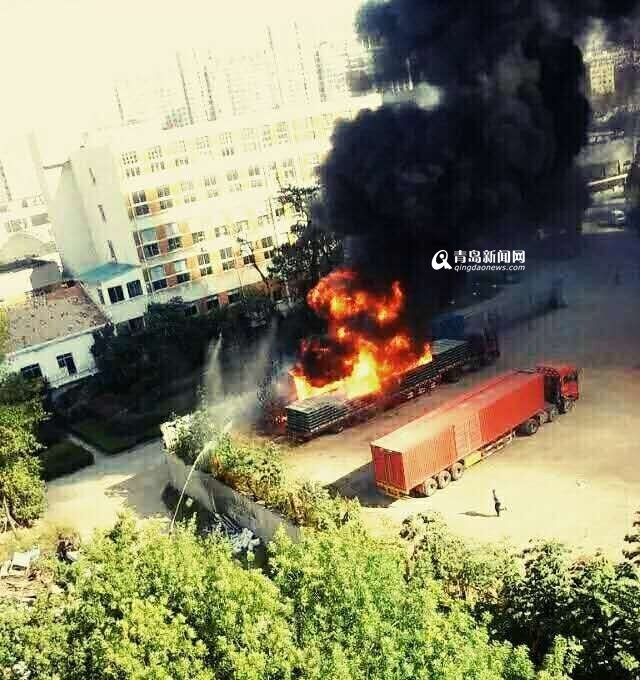fire: (293, 272, 430, 401)
